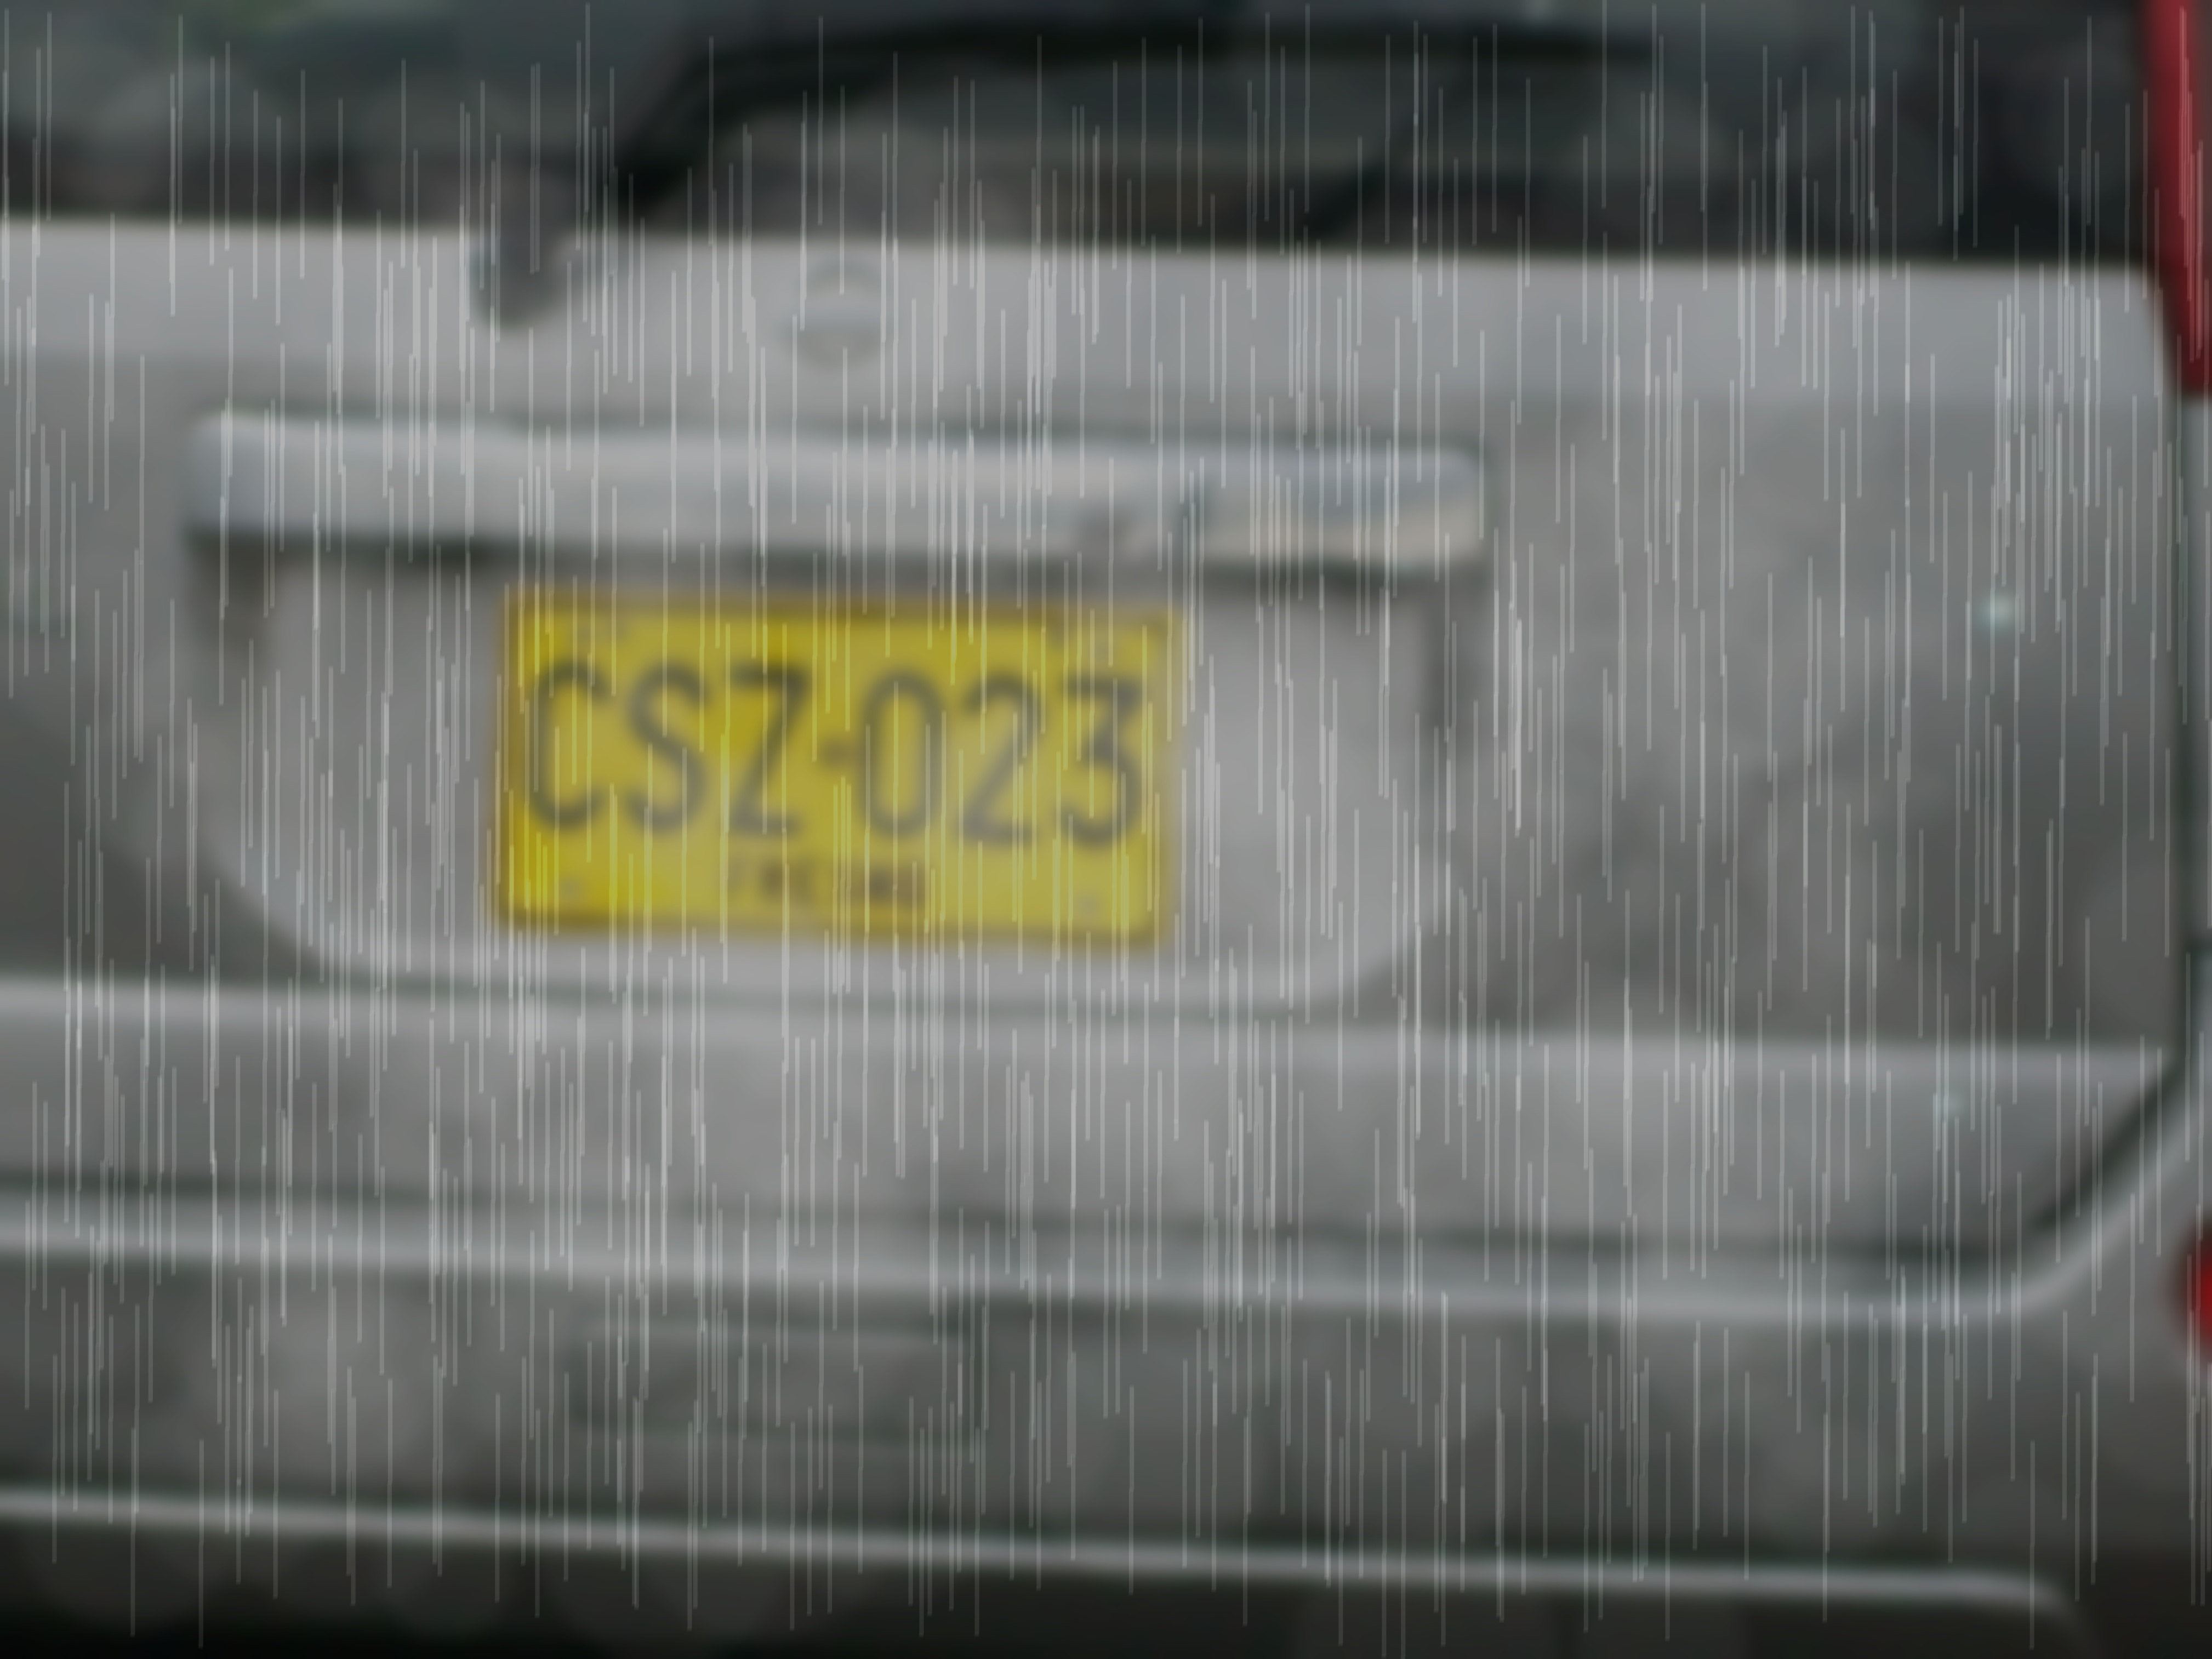placas: (481, 578, 1194, 960)
